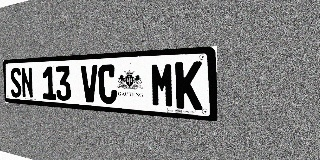1: (42, 66, 56, 100)
3: (55, 66, 71, 101)
C: (98, 64, 117, 104)
K: (175, 61, 202, 110)
M: (150, 62, 175, 108)
N: (21, 67, 33, 99)
S: (10, 67, 22, 98)
V: (81, 65, 98, 103)
